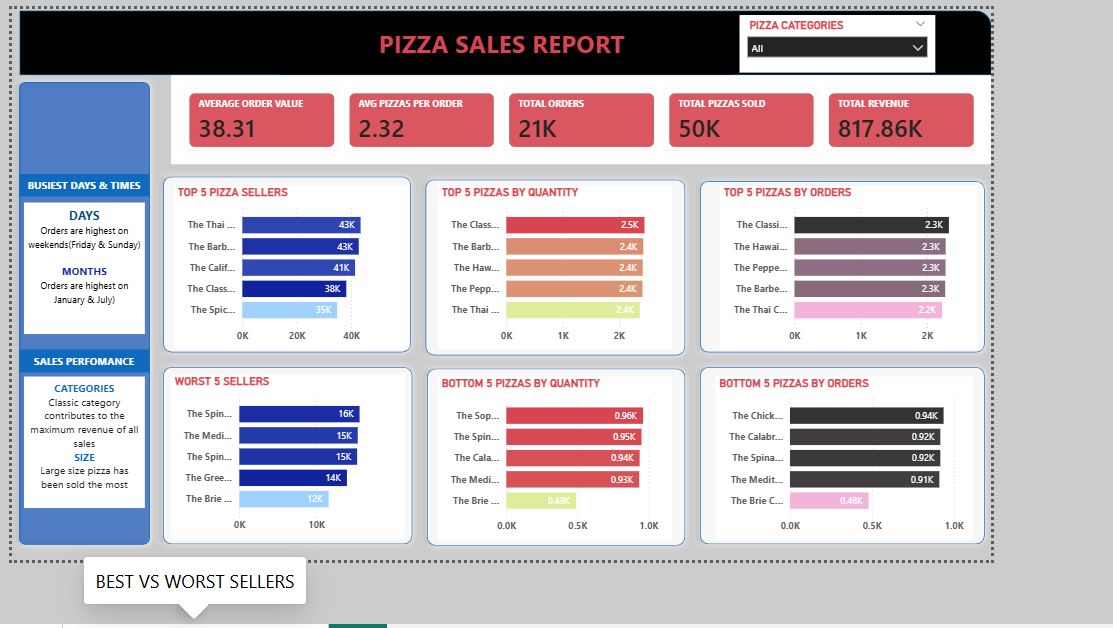

The page's visual inventory and layout, read from the dashboard file:
{"tool":"powerbi","page":{"name":"BEST VS WORST SELLERS","canvas":[1280,720],"ordinal":1},"visuals":[{"type":"shape","box":[188.5,459.6,344.2,250],"z":0},{"type":"shape","box":[0,86.2,189.2,623.1],"z":1000},{"type":"cardVisual","fields":{"Data":["ANALYSIS.AVERAGE ORDER VALUE","ANALYSIS.AVG PIZZAS PER ORDER","ANALYSIS.TOTAL ORDERS","ANALYSIS.TOTAL PIZZAS SOLD","ANALYSIS.TOTAL REVENUE"]},"box":[207.7,86.2,1072.3,116.9],"z":2000},{"type":"shape","box":[188.5,209.6,342.3,248.1],"z":3000},{"type":"shape","box":[9.2,1.5,1270.8,84.6],"z":4000},{"type":"shape","box":[532.7,461.5,355.8,250],"z":5000},{"type":"shape","box":[890.4,459.6,390.4,250],"z":6000},{"type":"textbox","box":[9.9,215.5,169,29.6],"z":7000},{"type":"textbox","box":[16,252,158,172],"z":8000},{"type":"textbox","box":[350.8,18.5,587.7,67.7],"z":9000},{"type":"textbox","box":[9,445,169,30],"z":10000},{"type":"textbox","box":[15,480,158,172],"z":11000},{"type":"slicer","fields":{"Values":["pizza_sales.pizza_category"]},"box":[950,7.7,255.8,75],"z":12000},{"type":"shape","box":[530.8,213.5,357.7,248.1],"z":13000},{"type":"shape","box":[890.4,215.4,390.4,242.3],"z":14000},{"type":"clusteredBarChart","title":"TOP 5 PIZZA SELLERS","fields":{"Category":["pizza_sales.pizza_name"],"Y":["ANALYSIS.TOTAL REVENUE"]},"box":[211.5,230.8,305.8,213.5],"z":15000},{"type":"clusteredBarChart","title":"WORST 5 SELLERS","fields":{"Category":["pizza_sales.pizza_name"],"Y":["ANALYSIS.TOTAL REVENUE"]},"box":[207.7,478.8,305.8,213.5],"z":16000},{"type":"clusteredBarChart","title":"TOP 5 PIZZAS BY QUANTITY","fields":{"Category":["pizza_sales.pizza_name"],"Y":["ANALYSIS.TOTAL PIZZAS SOLD"]},"box":[557.7,230.8,305.8,213.5],"z":17000},{"type":"clusteredBarChart","title":"BOTTOM 5 PIZZAS BY QUANTITY","fields":{"Category":["pizza_sales.pizza_name"],"Y":["ANALYSIS.TOTAL PIZZAS SOLD"]},"box":[557.7,480.8,305.8,213.5],"z":18000},{"type":"clusteredBarChart","title":"TOP 5 PIZZAS BY ORDERS","fields":{"Category":["pizza_sales.pizza_name"],"Y":["ANALYSIS.TOTAL ORDERS"]},"box":[925,230.8,336.5,213.5],"z":19000},{"type":"clusteredBarChart","title":"BOTTOM 5 PIZZAS BY ORDERS","fields":{"Category":["pizza_sales.pizza_name"],"Y":["ANALYSIS.TOTAL ORDERS"]},"box":[919.2,480.8,336.5,213.5],"z":20000}]}

Visuals, with their boxes in screenshot pixels (x1, y1, x2, y2), scaled from the page's 1280x720 canvas onto the 1113x628 screenshot:
shape: box=[164, 401, 463, 619]
shape: box=[0, 75, 165, 619]
cardVisual - ANALYSIS.AVERAGE ORDER VALUE x ANALYSIS.AVG PIZZAS PER ORDER: box=[181, 75, 1112, 177]
shape: box=[164, 183, 462, 399]
shape: box=[8, 1, 1112, 75]
shape: box=[463, 403, 773, 621]
shape: box=[774, 401, 1112, 619]
textbox: box=[9, 188, 156, 214]
textbox: box=[14, 220, 151, 370]
textbox: box=[305, 16, 816, 75]
textbox: box=[8, 388, 155, 414]
textbox: box=[13, 419, 150, 569]
slicer - pizza_sales.pizza_category: box=[826, 7, 1048, 72]
shape: box=[462, 186, 773, 403]
shape: box=[774, 188, 1112, 399]
"TOP 5 PIZZA SELLERS" clusteredBarChart: box=[184, 201, 450, 388]
"WORST 5 SELLERS" clusteredBarChart: box=[181, 418, 447, 604]
"TOP 5 PIZZAS BY QUANTITY" clusteredBarChart: box=[485, 201, 751, 388]
"BOTTOM 5 PIZZAS BY QUANTITY" clusteredBarChart: box=[485, 419, 751, 606]
"TOP 5 PIZZAS BY ORDERS" clusteredBarChart: box=[804, 201, 1097, 388]
"BOTTOM 5 PIZZAS BY ORDERS" clusteredBarChart: box=[799, 419, 1092, 606]
